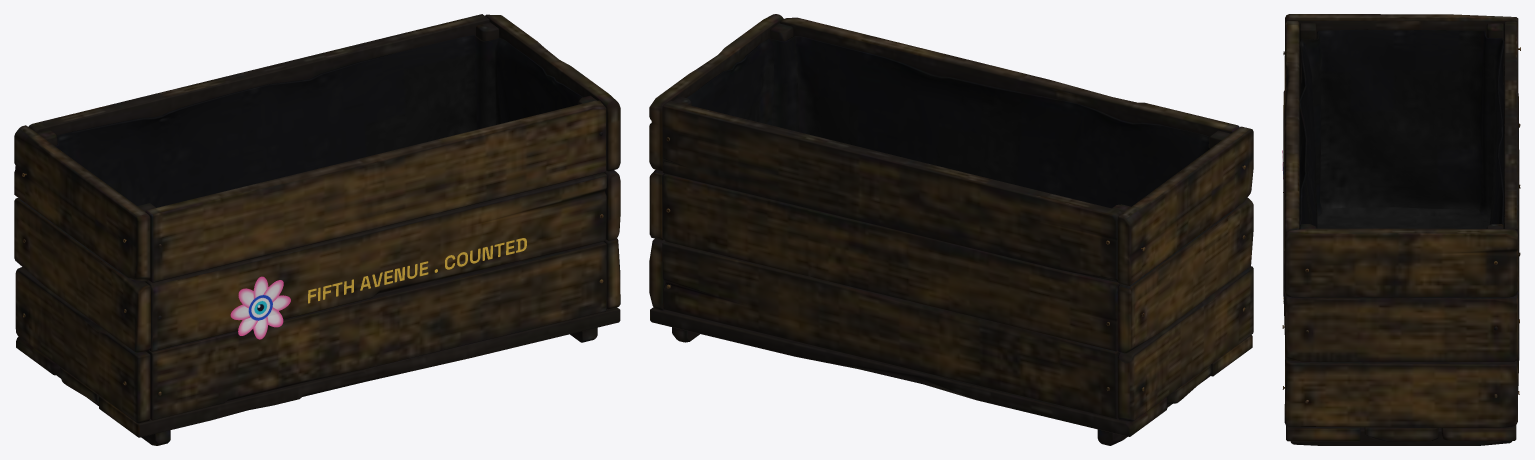
The model's file is nyb_tiffany_planter.glb.
The picture shows the model from 3 angles, left to right: view 1: azimuth 30°, elevation 25°; view 2: azimuth 150°, elevation 25°; view 3: azimuth 270°, elevation 25°; orthographic projection. The views are drawn at different scales.
Parts seen in each view (by area): view 1: planter_box_01, stk_lbl_3ee7d081e5.png; view 2: planter_box_01; view 3: planter_box_01.
Boxes of the visible parts, x1,y1,x2,y2 form: planter_box_01: (14,14,620,445); stk_lbl_3ee7d081e5.png: (230,238,526,339); planter_box_01: (649,14,1253,445); planter_box_01: (1282,14,1520,445).
Size of the model in its own units: 0.9126 by 0.425 by 0.4144.
Materials: 2 (2 with a texture image).
